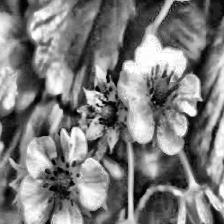Blossom Blight: (39, 155, 84, 212), (144, 62, 183, 122), (85, 88, 126, 134)
